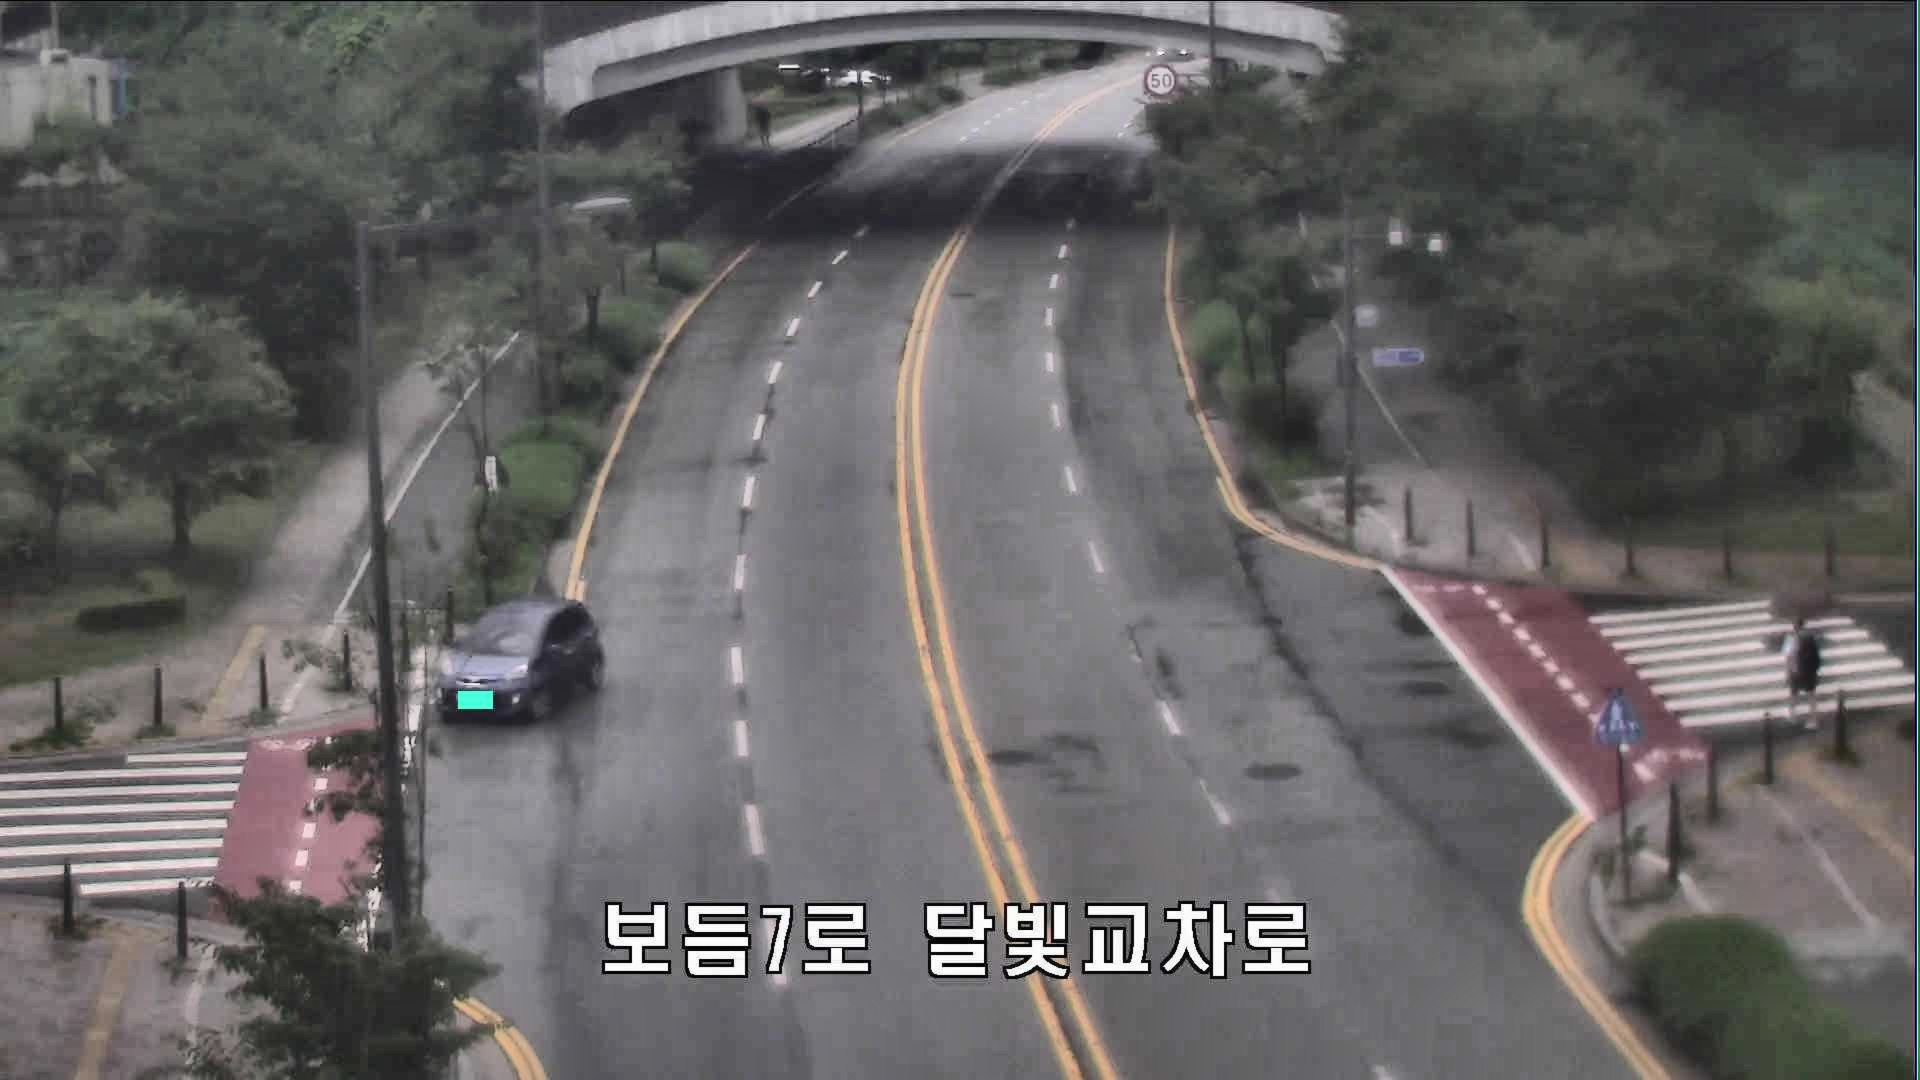um_crosswalk: (1767, 578, 1846, 731)
um_sidewalk: (676, 117, 713, 167), (745, 95, 774, 152)
